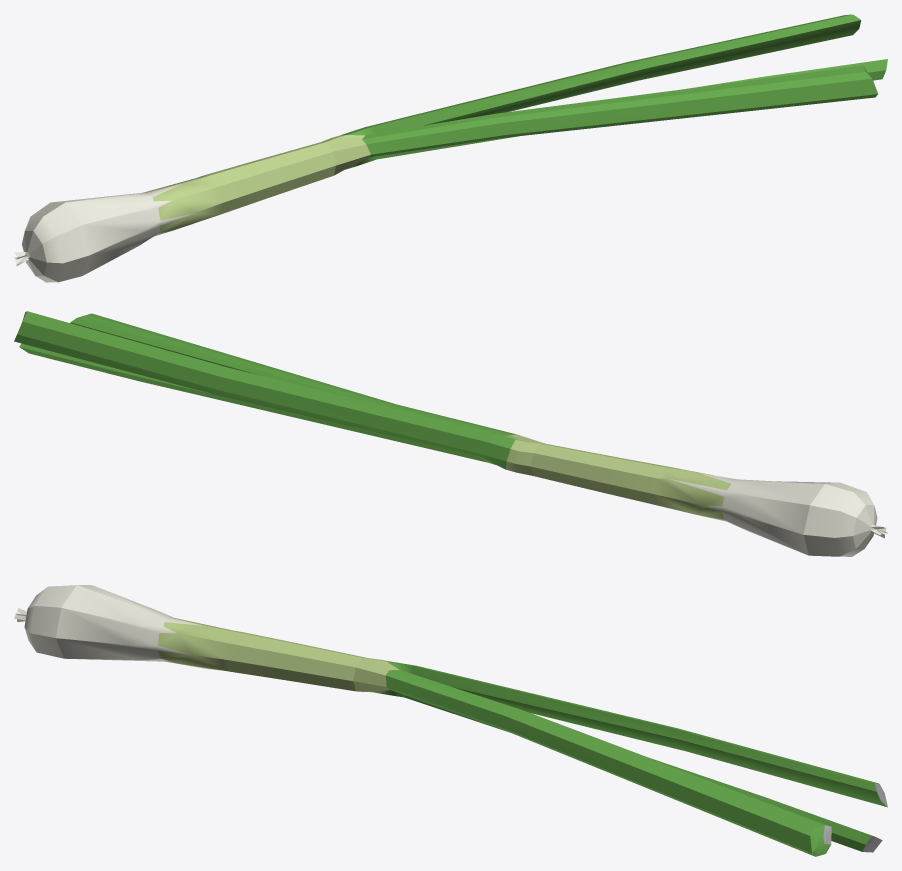
The model's file is GreenOnion.fbx.
3 views of the same model, one above another, from view 1: azimuth 30°, elevation 25°; view 2: azimuth 150°, elevation 25°; view 3: azimuth 330°, elevation 25° (orthographic).
Visible parts, largest first — view 1: pCylinder2; view 2: pCylinder2; view 3: pCylinder2.
Boxes of the visible parts, x1=… form: pCylinder2: x1=14, y1=14, x2=887, y2=282; pCylinder2: x1=14, y1=311, x2=887, y2=556; pCylinder2: x1=14, y1=585, x2=887, y2=856.
Bounding box in the file's own units: 7.87 × 0.6359 × 0.9436.
